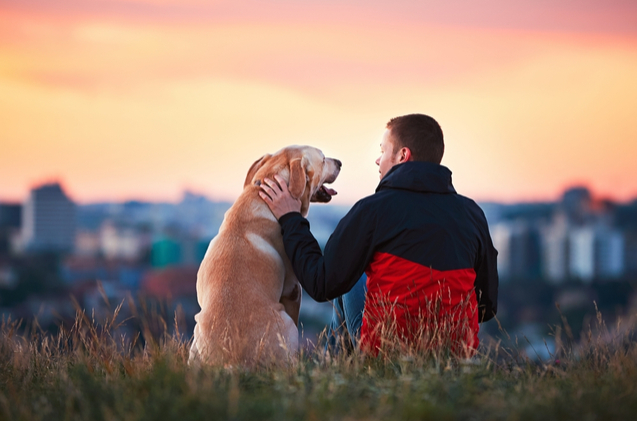Dog: (182, 118, 336, 391)
Person: (329, 97, 494, 353)
